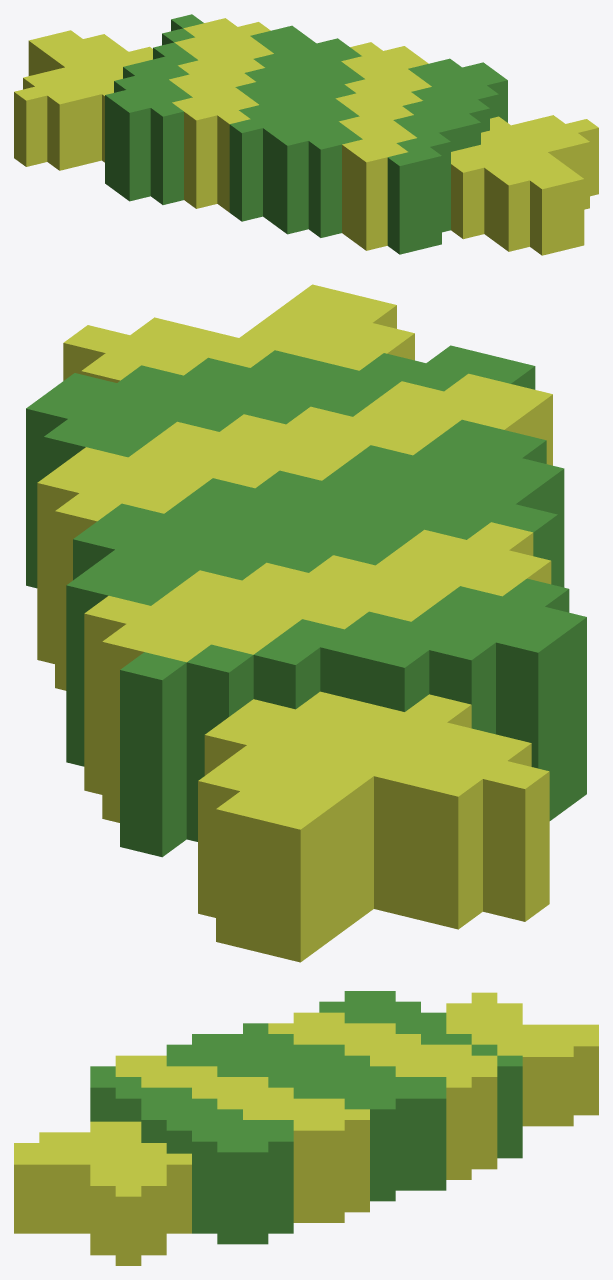
File: Eruption-26.obj
The picture shows the model from 3 angles, top to bottom: view 1: azimuth 30°, elevation 25°; view 2: azimuth 150°, elevation 25°; view 3: azimuth 270°, elevation 25°; orthographic projection. The views are drawn at different scales.
Bounding box in the file's own units: 1.9 × 0.4 × 2.3.
Materials: 1 (1 with a texture image).
